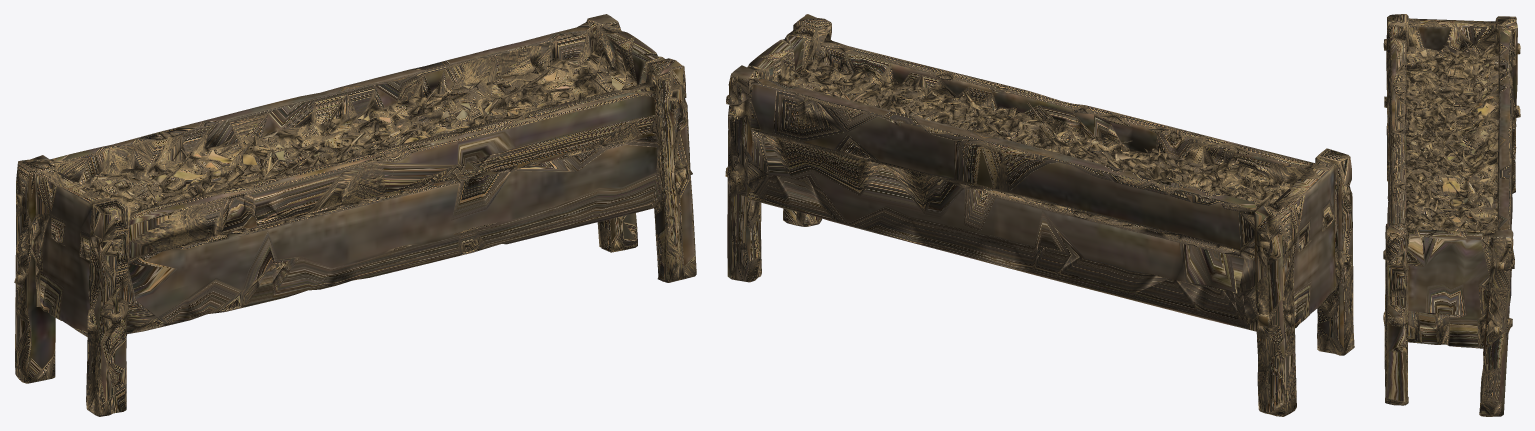
Rendered from straight-feeding-trough.glb.
3 renders of one model, left to right at view 1: azimuth 30°, elevation 25°; view 2: azimuth 150°, elevation 25°; view 3: azimuth 270°, elevation 25°, orthographic. The views are drawn at different scales.
Visible parts, largest first — view 1: geometry_0; view 2: geometry_0; view 3: geometry_0.
Boxes of the visible parts, bbox=[...] form: geometry_0: bbox=[14, 14, 696, 416]; geometry_0: bbox=[725, 14, 1354, 416]; geometry_0: bbox=[1383, 14, 1520, 416].
Size of the model in its own units: 1.8 by 0.6499 by 0.4464.
1 material, 1 textured.
